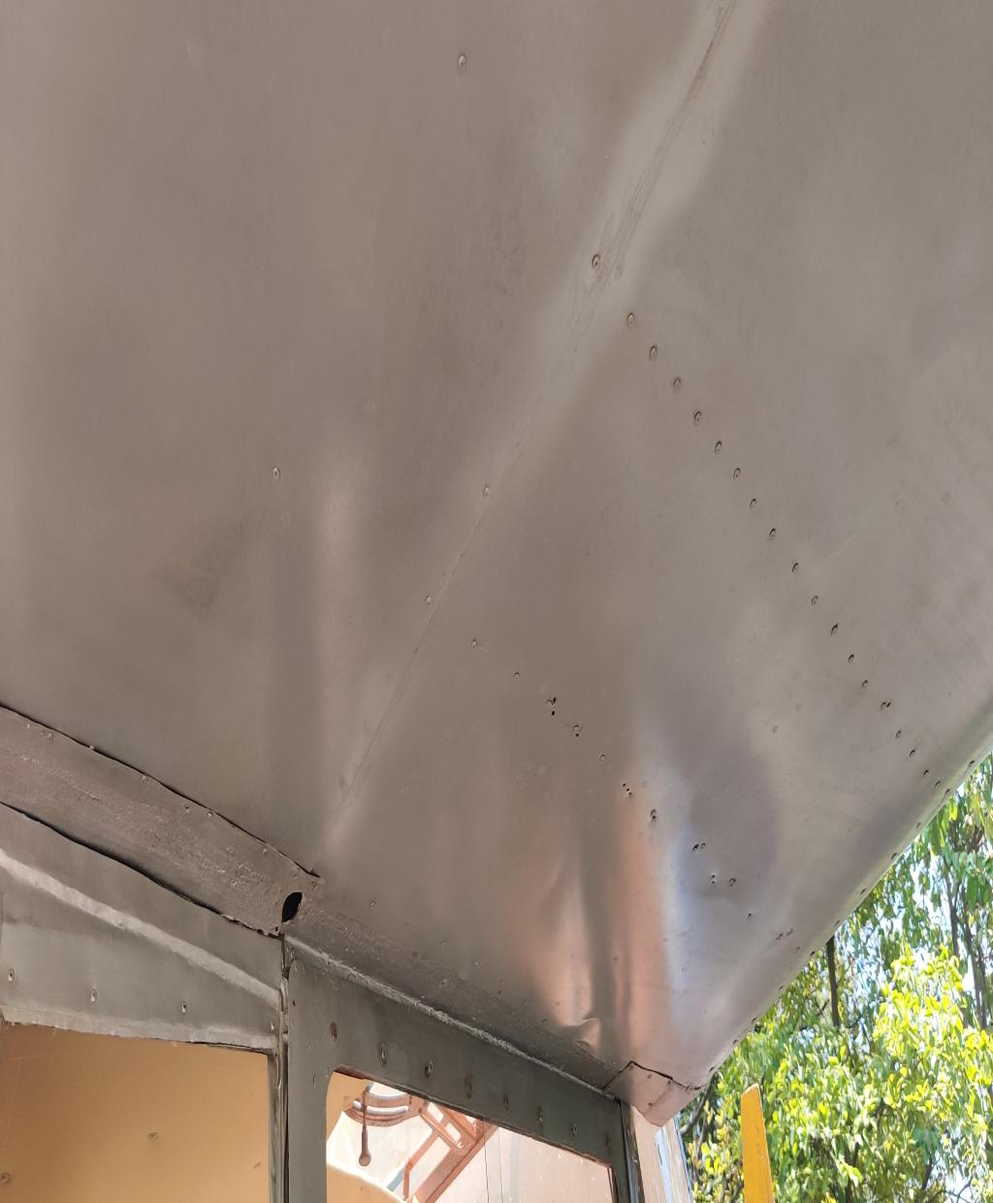dent: (525, 794, 639, 1059), (668, 787, 766, 1031)
